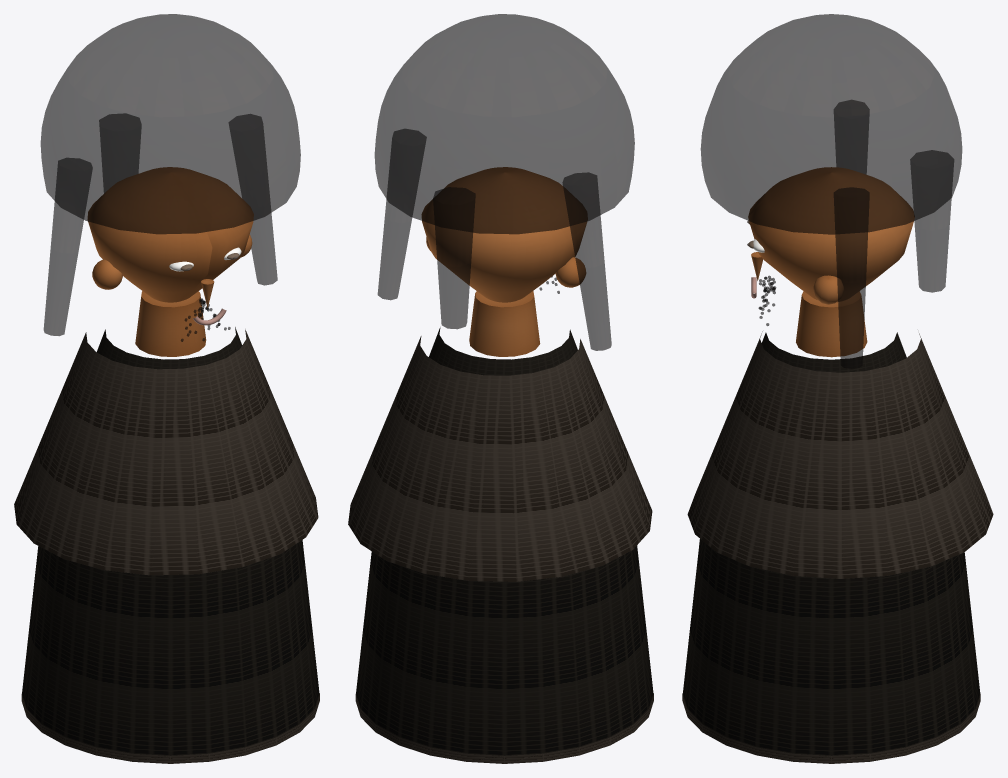
Rendered from john_apostle.glb.
3 views of the same model, side by side, from view 1: azimuth 30°, elevation 25°; view 2: azimuth 150°, elevation 25°; view 3: azimuth 270°, elevation 25° (orthographic).
Visible parts, largest first — view 1: Character_john_the_apostle, head; view 2: Character_john_the_apostle, head; view 3: Character_john_the_apostle, head.
Part boxes in pixels (bbox=[...]): Character_john_the_apostle: bbox=[14, 14, 319, 763]; head: bbox=[87, 167, 253, 302]; Character_john_the_apostle: bbox=[348, 14, 653, 763]; head: bbox=[421, 167, 587, 302]; Character_john_the_apostle: bbox=[682, 14, 993, 763]; head: bbox=[748, 167, 914, 302].
Bounding box in the file's own units: 0.7393 × 1.8 × 0.7515.
Materials: 8 (4 with a texture image).
